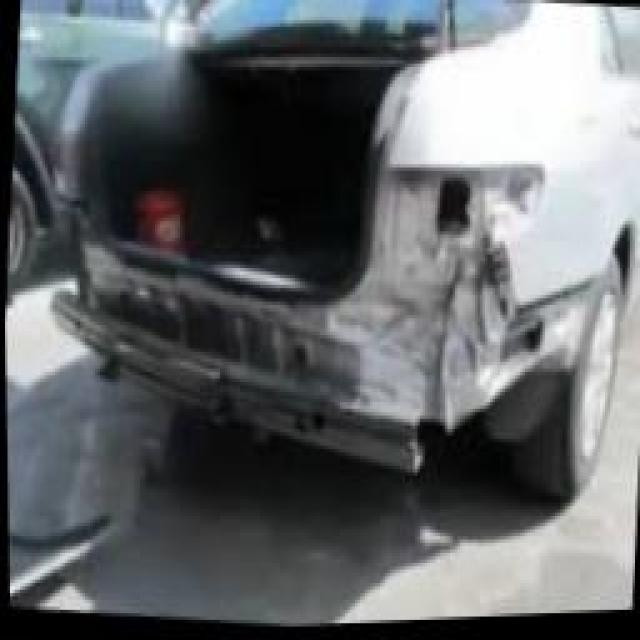Bumper: (203, 174, 593, 483)
